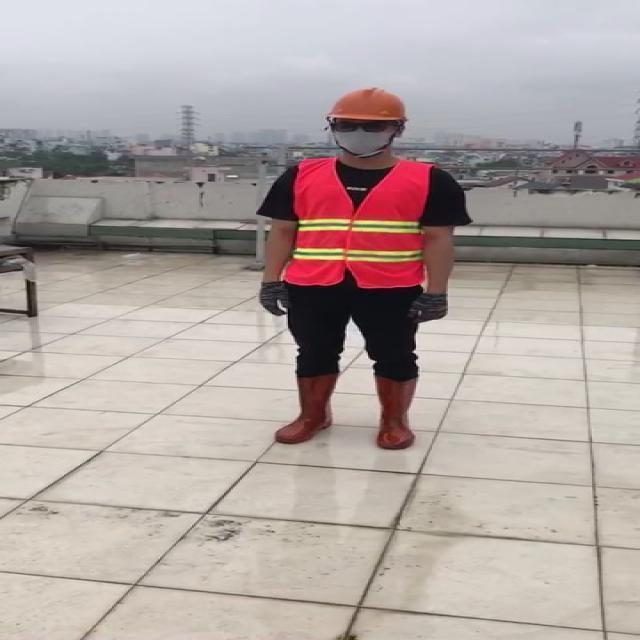gloves: (406, 291, 448, 326), (257, 278, 290, 318)
goggles: (327, 120, 395, 133)
helmet: (326, 86, 411, 122)
safety_vest: (288, 159, 436, 288)
